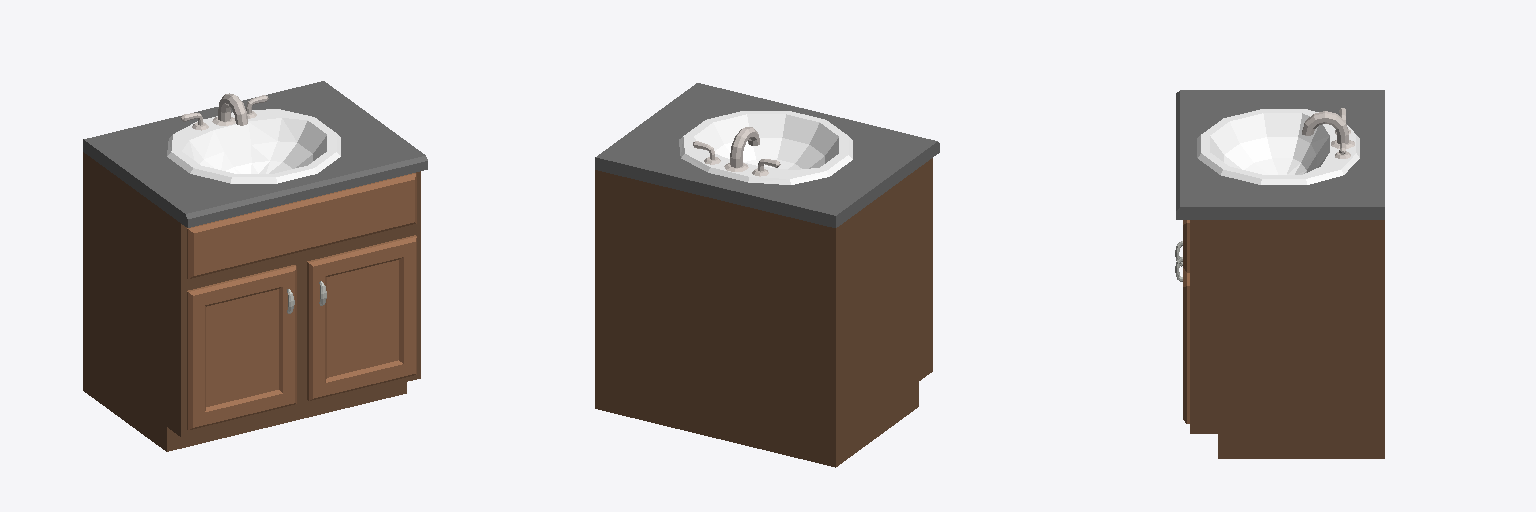
The model's file is Structure_Bathroom_Cabinet_Sink.obj.
The picture shows the model from 3 angles: view 1: azimuth 30°, elevation 25°; view 2: azimuth 150°, elevation 25°; view 3: azimuth 270°, elevation 25°; orthographic projection.
Visible parts, largest first — view 1: object5, object3, object6, object1, object10, object9; view 2: object5, object3, object10, object9; view 3: object5, object3, object10, object1, object9.
Boxes of the visible parts, x1=… form: object5: x1=83, y1=152, x2=420, y2=451; object3: x1=83, y1=81, x2=427, y2=227; object6: x1=187, y1=265, x2=296, y2=430; object1: x1=307, y1=235, x2=416, y2=400; object10: x1=167, y1=109, x2=340, y2=183; object9: x1=212, y1=93, x2=247, y2=125; object5: x1=595, y1=158, x2=932, y2=467; object3: x1=595, y1=83, x2=939, y2=227; object10: x1=679, y1=111, x2=852, y2=184; object9: x1=724, y1=127, x2=759, y2=171; object5: x1=1183, y1=220, x2=1384, y2=458; object3: x1=1176, y1=90, x2=1384, y2=219; object10: x1=1197, y1=109, x2=1359, y2=184; object1: x1=1183, y1=268, x2=1189, y2=423; object9: x1=1302, y1=111, x2=1354, y2=148.
Bounding box in the file's own units: 1 × 1.14 × 0.7531.